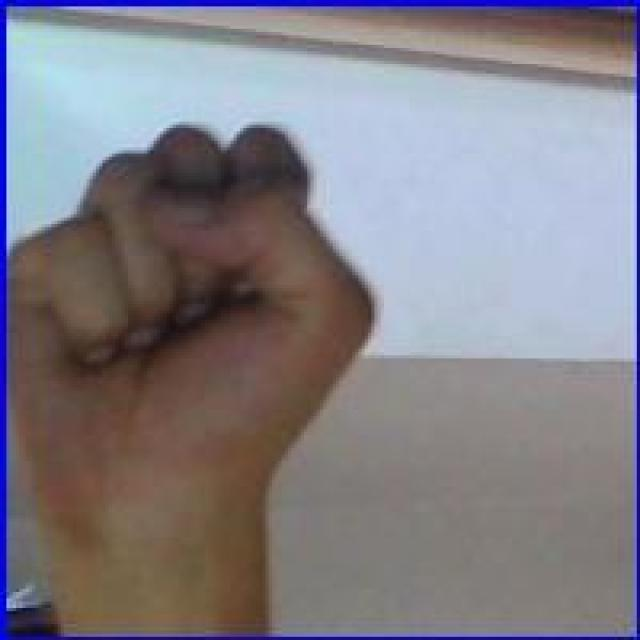S: (8, 117, 379, 507)
